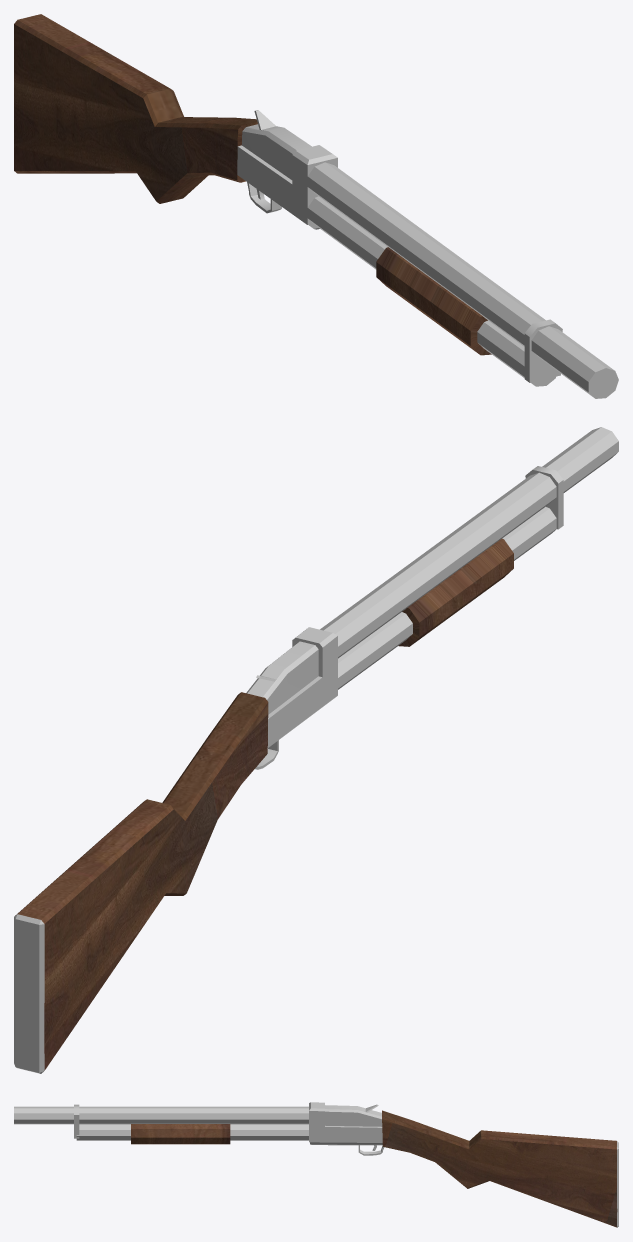
File: Winchester.FBX
3 renders of one model, top to bottom at view 1: azimuth 30°, elevation 25°; view 2: azimuth 150°, elevation 25°; view 3: azimuth 270°, elevation 25°, orthographic. The views are drawn at different scales.
Parts seen in each view (by area): view 1: Box012; view 2: Box012; view 3: Box012.
Boxes of the visible parts, <box> form: Box012: <box>14,14,618,398</box>; Box012: <box>14,427,618,1073</box>; Box012: <box>14,1102,618,1227</box>.
Bounding box in the file's own units: 11.18 × 55.82 × 256.
